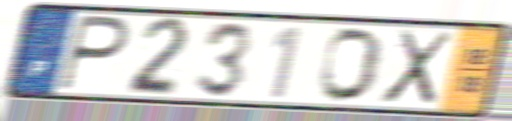1: (268, 24, 304, 100)
2: (125, 14, 191, 98)
3: (197, 19, 257, 99)
O: (317, 25, 387, 105)
P: (54, 12, 133, 95)
X: (376, 28, 456, 108)
